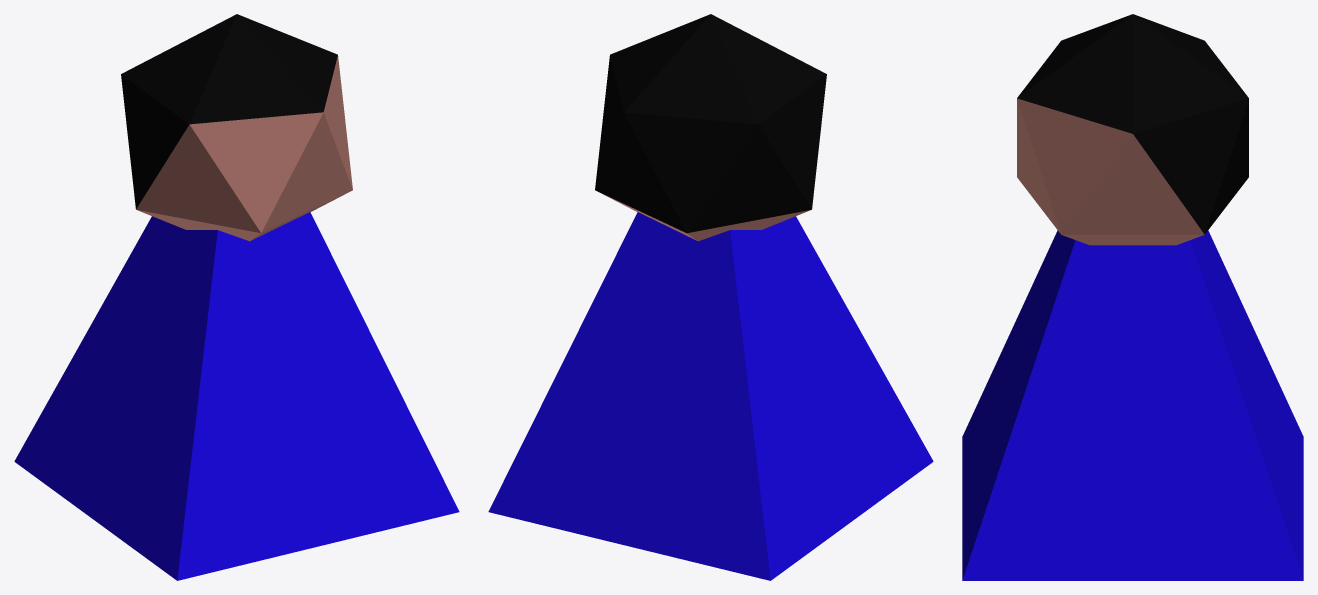
The model's file is PlayerLowPoly.dae.
3 views of the same model, side by side, from view 1: azimuth 30°, elevation 25°; view 2: azimuth 150°, elevation 25°; view 3: azimuth 270°, elevation 25° (orthographic). The views are drawn at different scales.
Visible parts, largest first — view 1: PlayerModel; view 2: PlayerModel; view 3: PlayerModel.
Boxes of the visible parts, left/top/right/bottom form: PlayerModel: left=14, top=14, right=459, bottom=580; PlayerModel: left=488, top=14, right=933, bottom=580; PlayerModel: left=962, top=14, right=1303, bottom=580.
Size of the model in its own units: 1 by 1 by 1.6.
